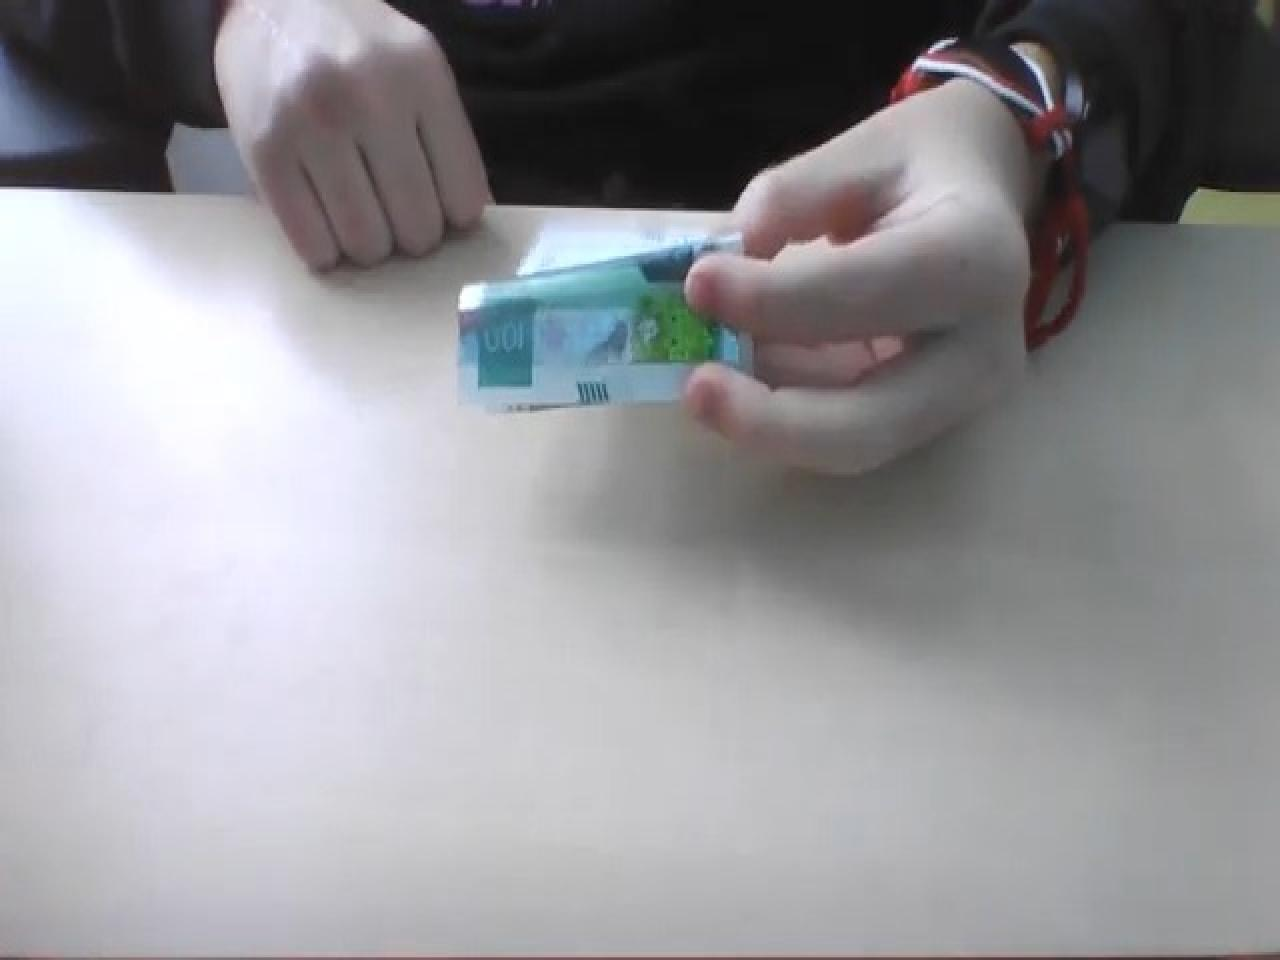100leva: (454, 227, 756, 416)
